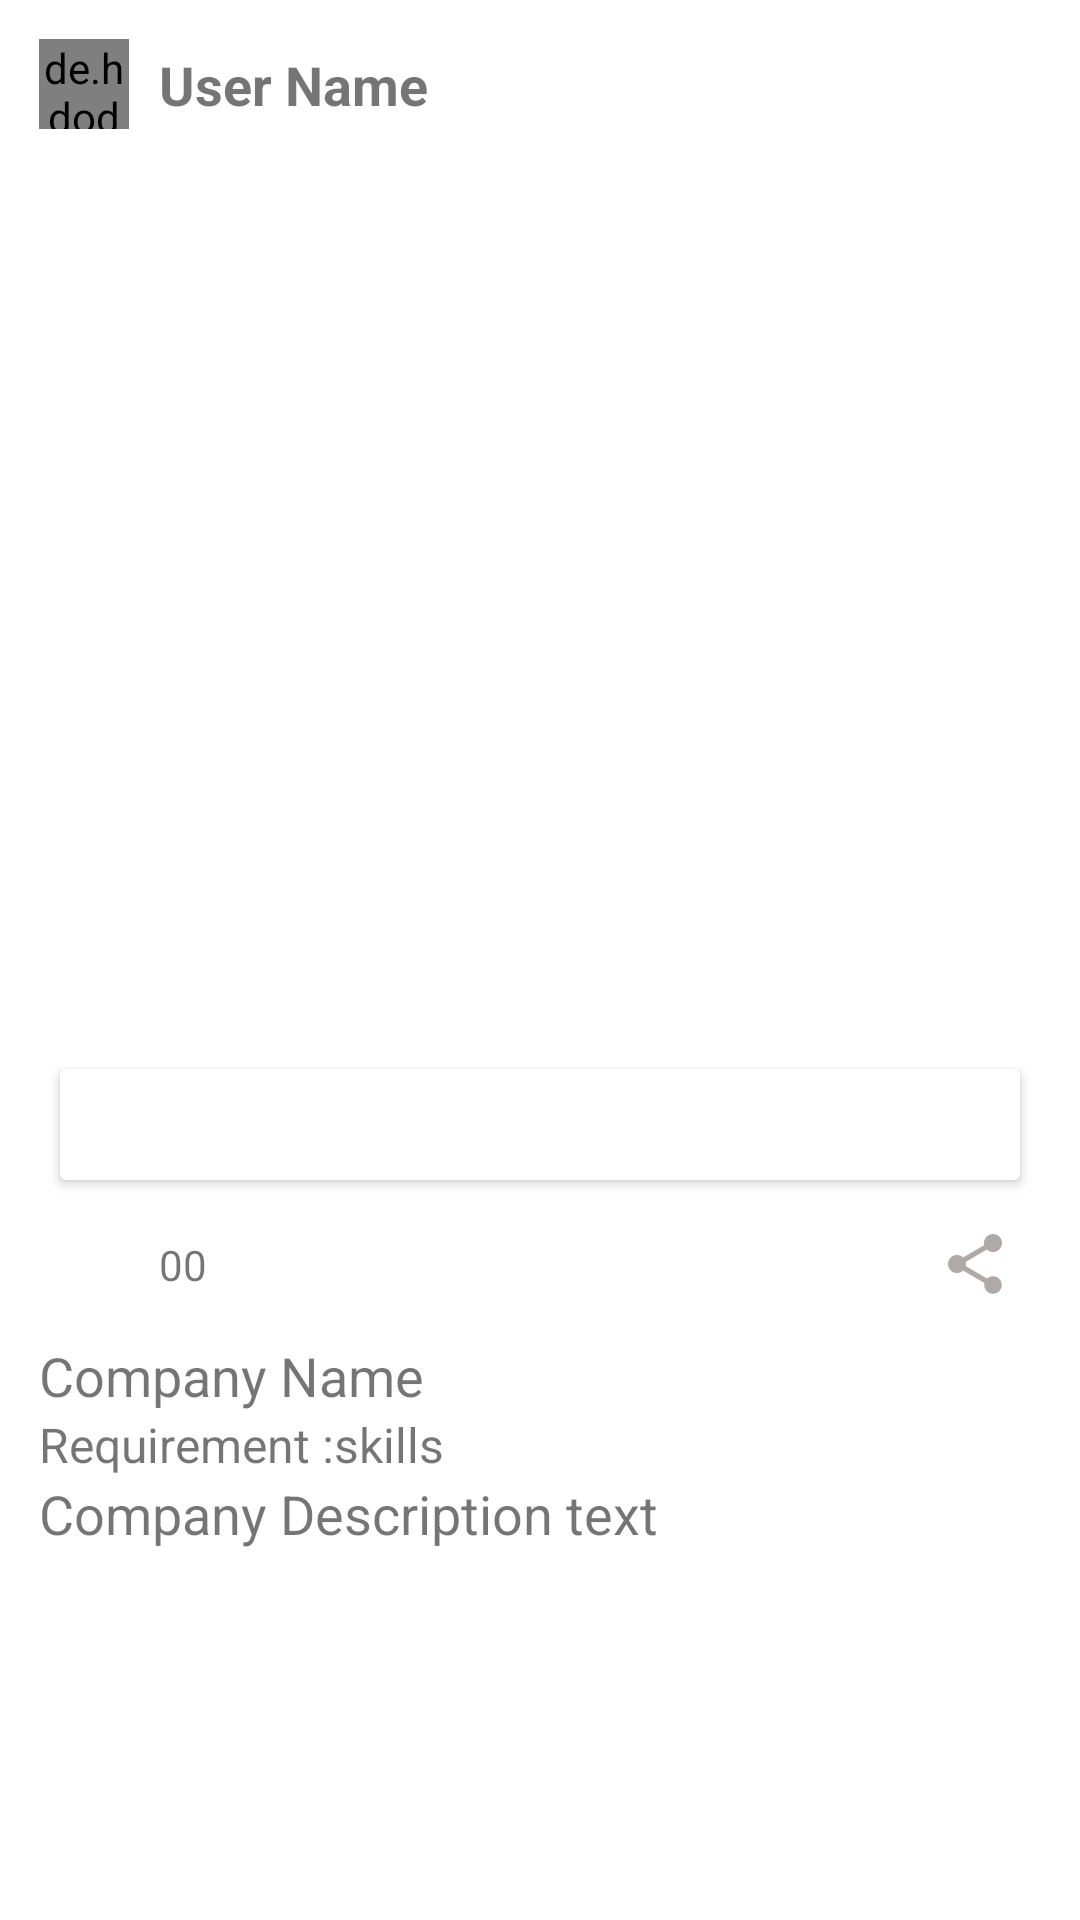

Icon click points for this 1080*1920 phone screenshot, format [x,y]:
share: [975,1264]
